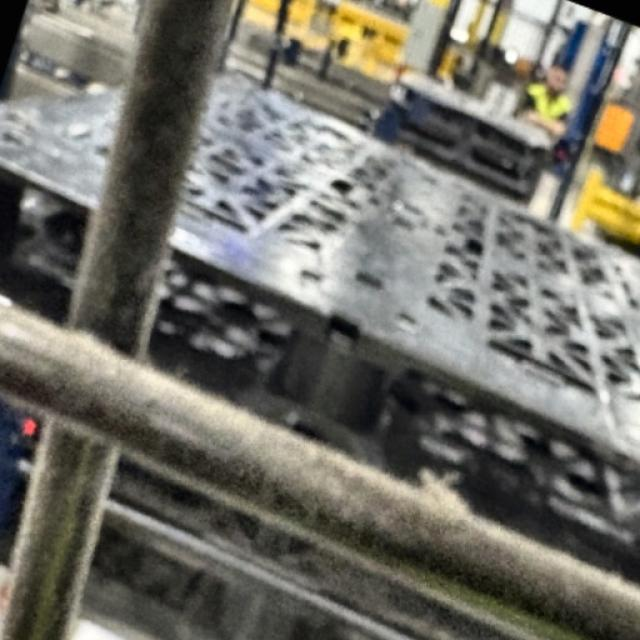igps: (0, 57, 640, 590)
